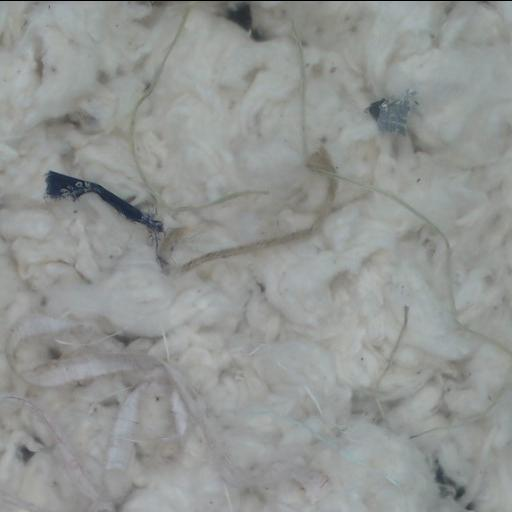cotton: (0, 1, 511, 512)
thread: (45, 1, 331, 274), (24, 331, 255, 507), (300, 100, 449, 256), (290, 382, 338, 447), (107, 390, 137, 468), (368, 94, 415, 134), (16, 315, 79, 336)
